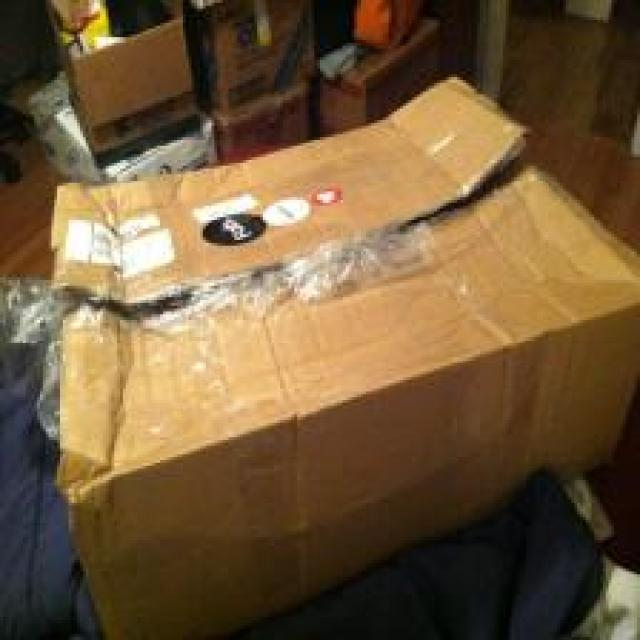box: (51, 72, 640, 640)
crushed: (55, 259, 245, 355), (462, 251, 636, 346), (399, 134, 534, 236), (52, 419, 124, 547)
